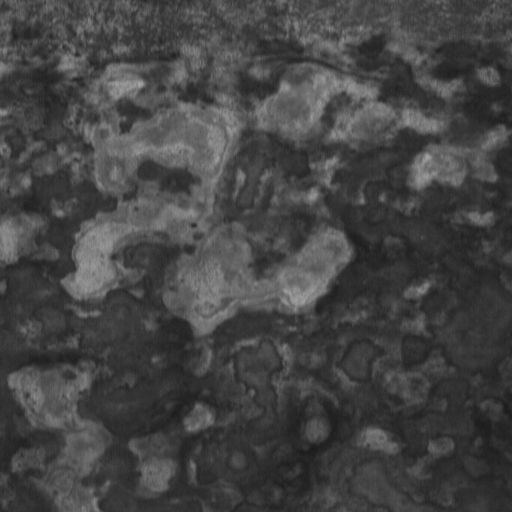aokeng: (79, 352, 212, 447), (225, 333, 295, 441), (329, 331, 393, 392)
